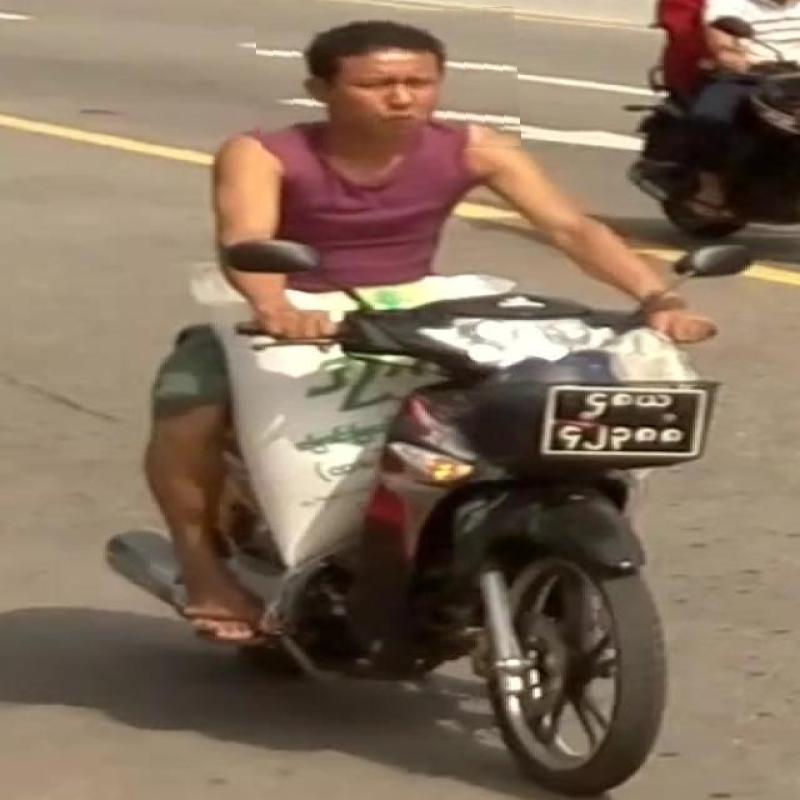nohelmet: (256, 9, 520, 156)
